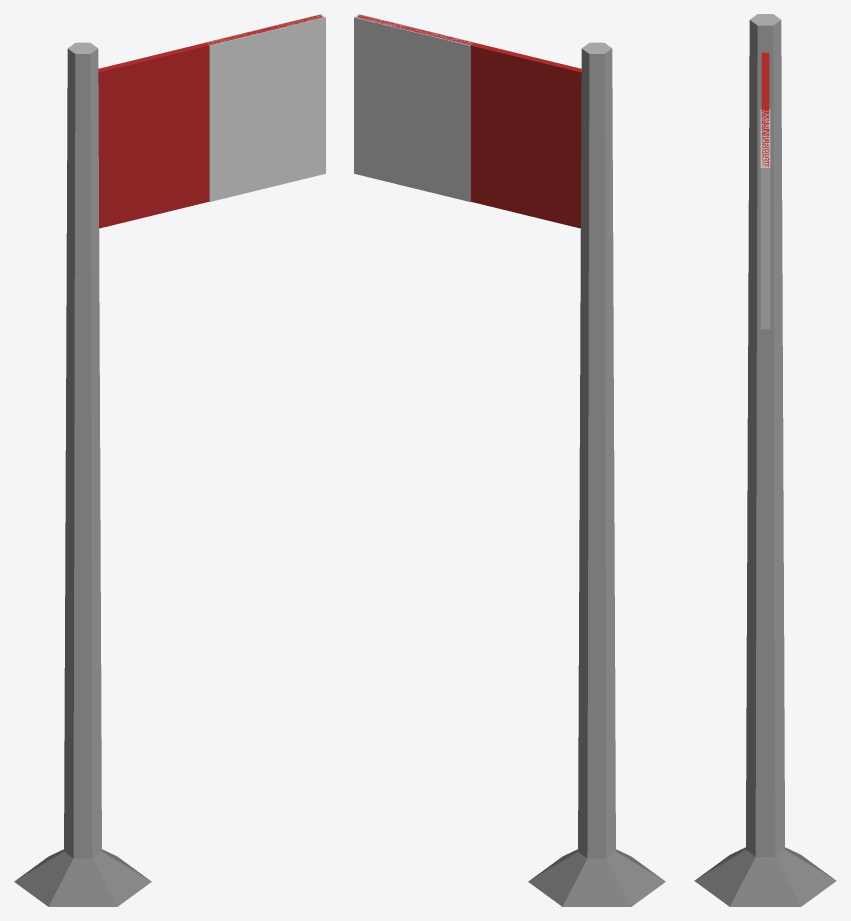
The model's file is lkp_marker.glb.
The picture shows the model from 3 angles, left to right: view 1: azimuth 30°, elevation 25°; view 2: azimuth 150°, elevation 25°; view 3: azimuth 270°, elevation 25°; orthographic projection. The views are drawn at different scales.
Parts seen in each view (by area): view 1: lkp_marker; view 2: lkp_marker; view 3: lkp_marker.
Boxes of the visible parts, left/top/right/bottom form: lkp_marker: left=14, top=14, right=325, bottom=906; lkp_marker: left=354, top=14, right=665, bottom=906; lkp_marker: left=694, top=14, right=836, bottom=906.
Bounding box in the file's own units: 0.8809 × 2.4 × 0.36.
